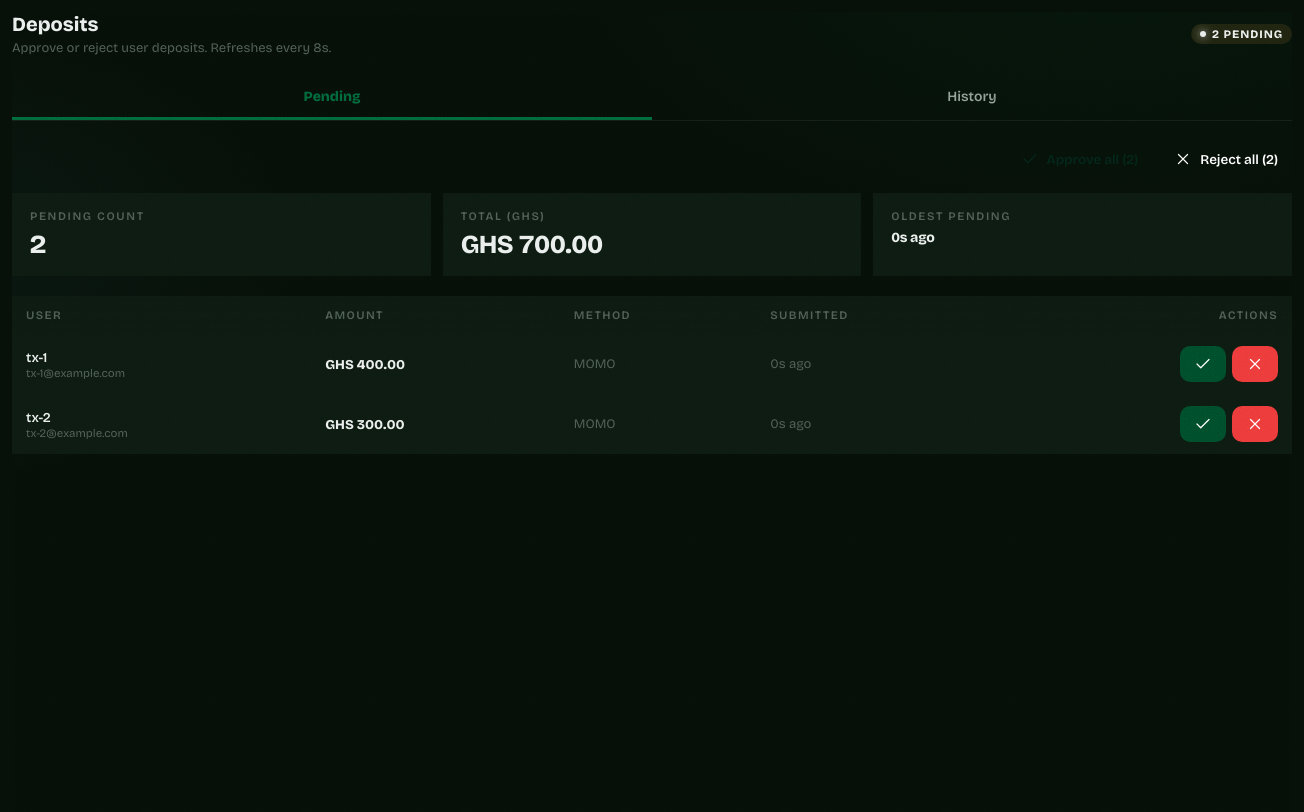
Test: Deposits page bulk actions › approves everything after confirmation
The width and height of the screenshot is (1304, 812).
Click the button "Approve all (2)" at (1079, 159), box left=1006, top=141, right=1152, bottom=177
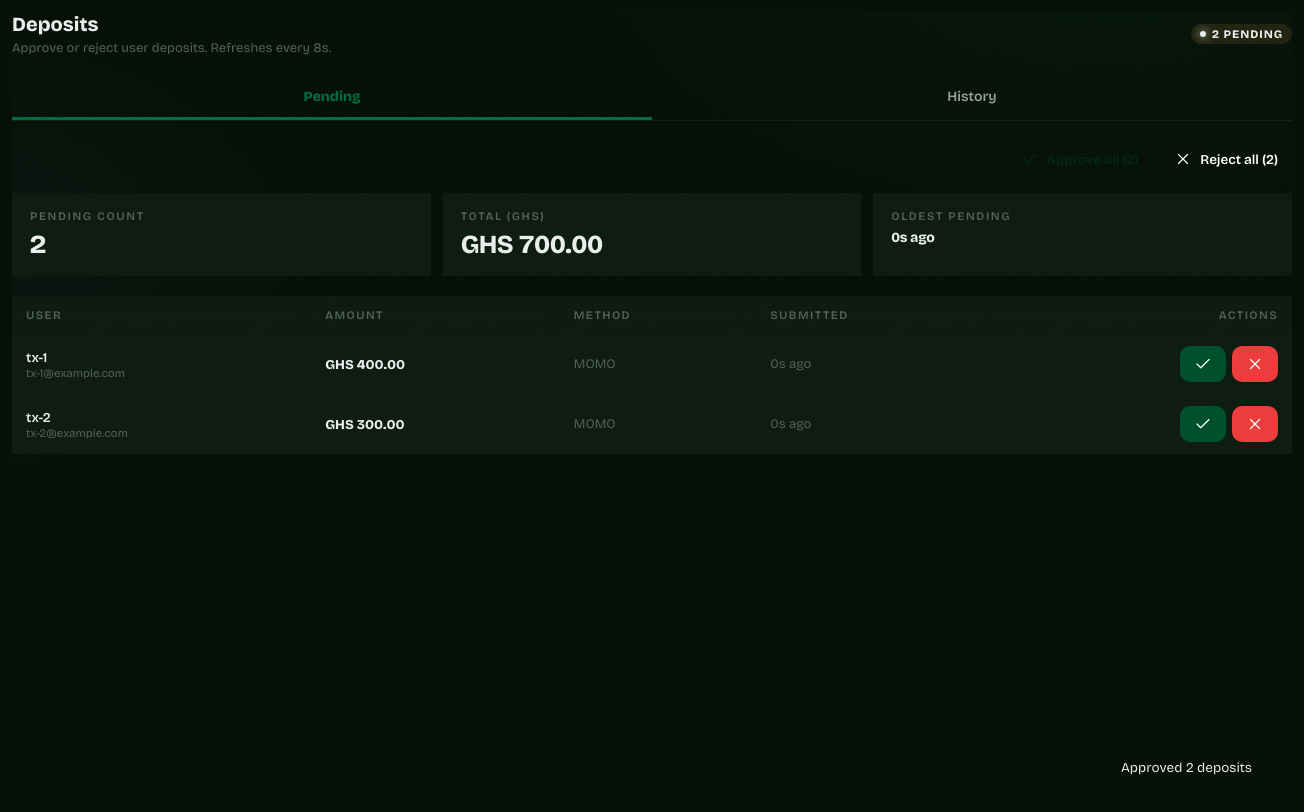
Expected: the text "Approved 2 deposits" is shown, left=1121, top=759, right=1252, bottom=776
